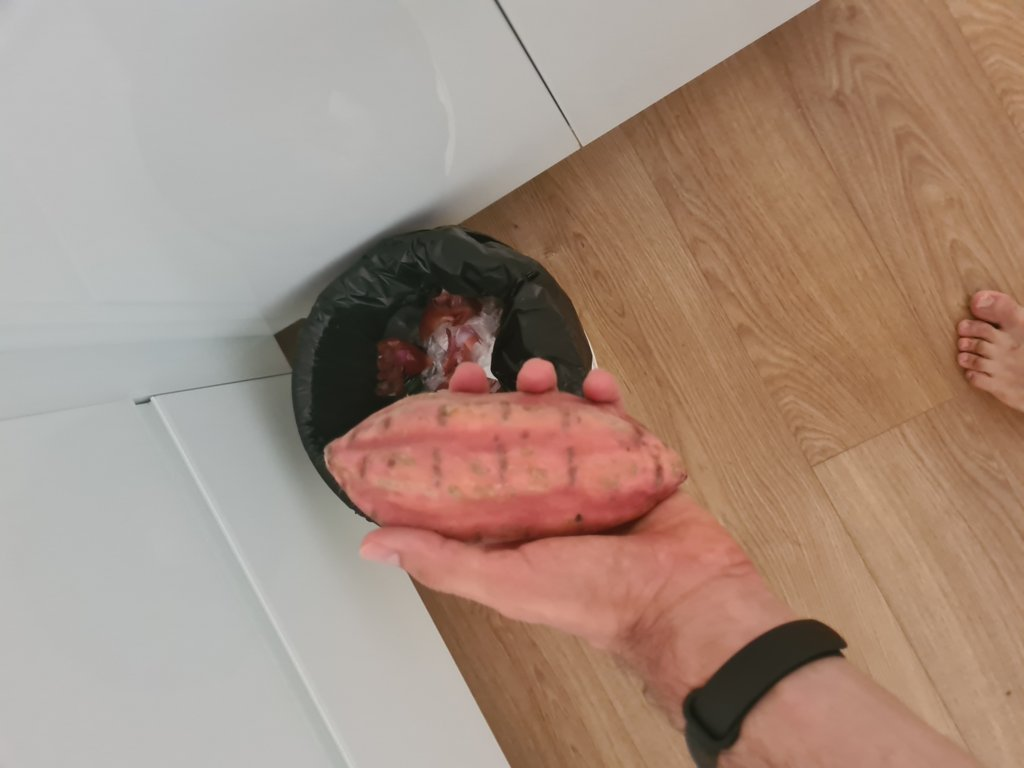Sweet Potatow: (329, 395, 697, 547)
